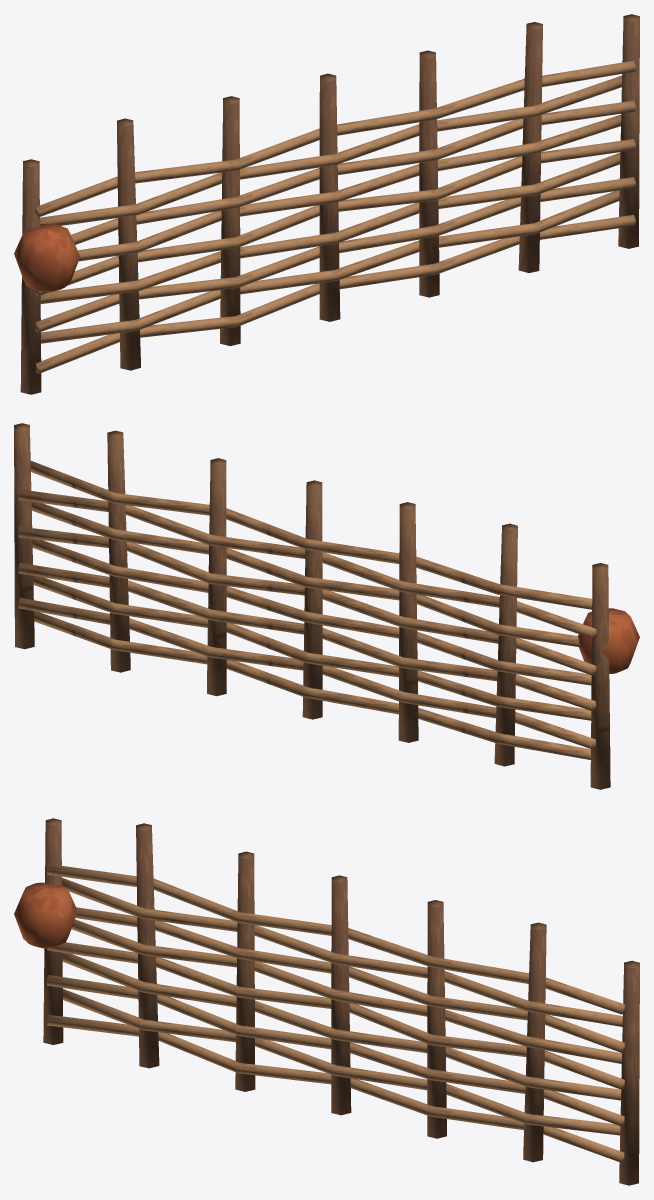
The model's file is wattle_fence.glb.
3 renders of one model, top to bottom at view 1: azimuth 30°, elevation 25°; view 2: azimuth 150°, elevation 25°; view 3: azimuth 330°, elevation 25°, orthographic. The views are drawn at different scales.
Visible parts, largest first — view 1: wattle_fence_wattle, wattle_fence_stakes; view 2: wattle_fence_wattle, wattle_fence_stakes; view 3: wattle_fence_wattle, wattle_fence_stakes.
Boxes of the visible parts, x1,y1,x2,y2 form: wattle_fence_wattle: [14, 60, 635, 373]; wattle_fence_stakes: [20, 14, 639, 394]; wattle_fence_wattle: [18, 461, 639, 759]; wattle_fence_stakes: [14, 423, 610, 789]; wattle_fence_wattle: [14, 864, 625, 1162]; wattle_fence_stakes: [43, 818, 639, 1185].
Size of what is drawn, in the model's own units: 3.07 by 1.13 by 0.3019.
3 materials, 3 textured.
